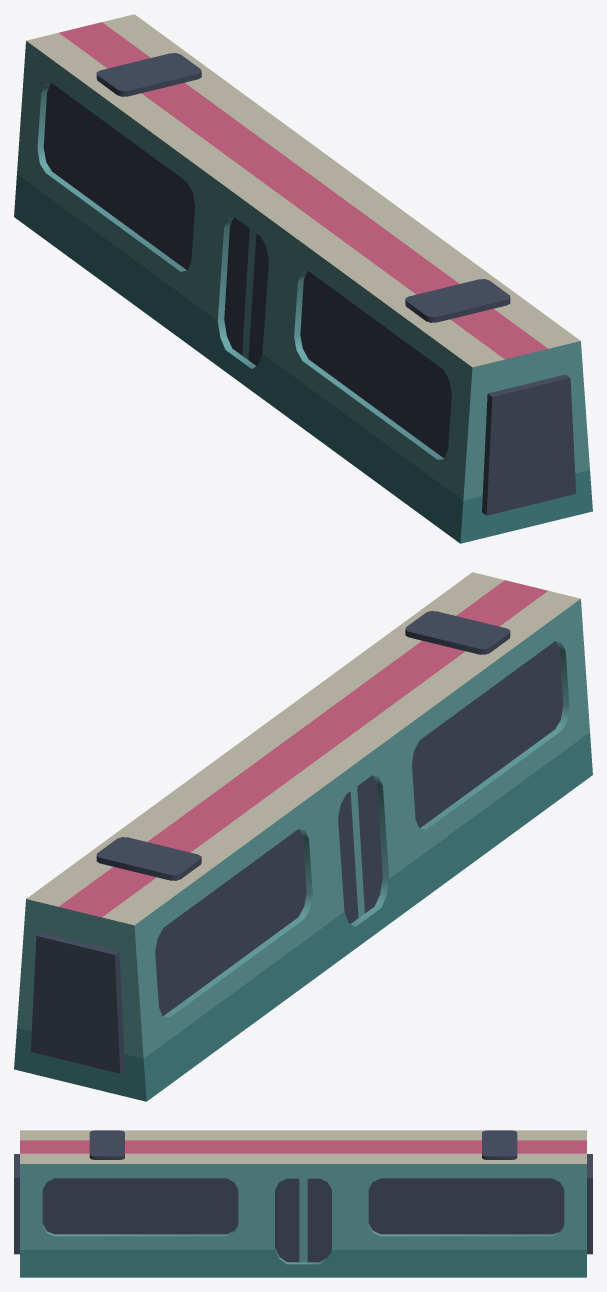
File: train_01_midle.fbx
3 views of the same model, one above another, from view 1: azimuth 30°, elevation 25°; view 2: azimuth 150°, elevation 25°; view 3: azimuth 270°, elevation 25° (orthographic). The views are drawn at different scales.
Parts seen in each view (by area): view 1: train_01_midle; view 2: train_01_midle; view 3: train_01_midle.
Boxes of the visible parts, <box> form: train_01_midle: <box>14,14,592,543</box>; train_01_midle: <box>14,572,592,1101</box>; train_01_midle: <box>14,1130,592,1277</box>.
Bounding box in the file's own units: 126 × 163 × 753.
